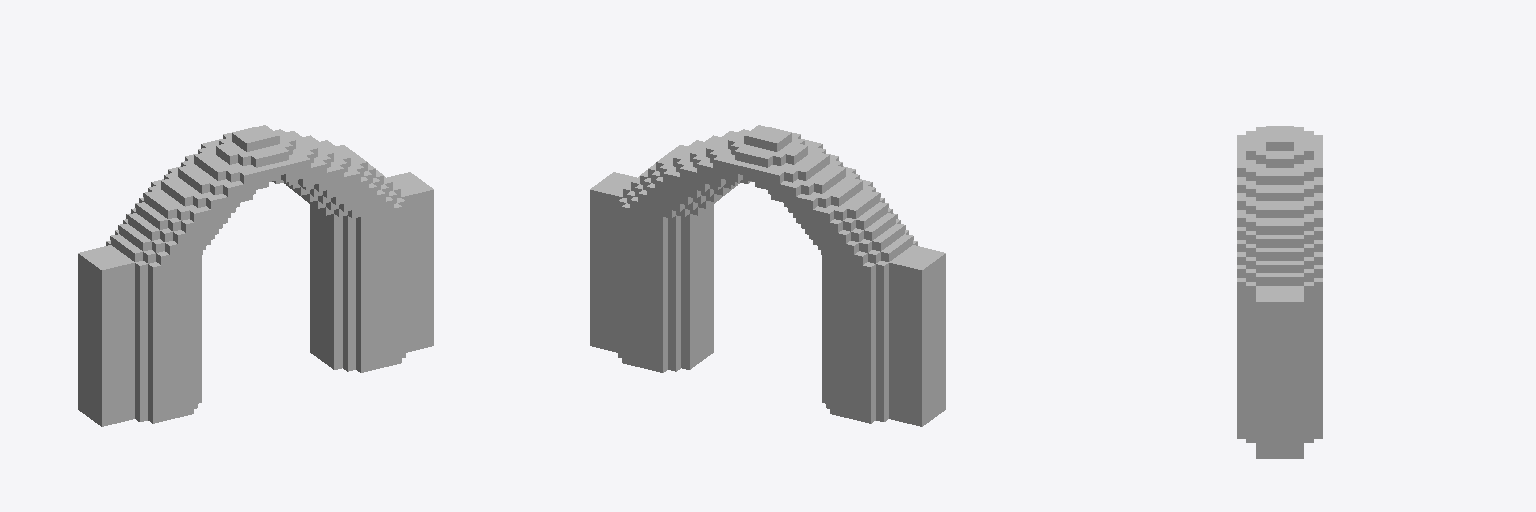
Rendered from gateframe.obj.
The picture shows the model from 3 angles: view 1: azimuth 30°, elevation 25°; view 2: azimuth 150°, elevation 25°; view 3: azimuth 270°, elevation 25°; orthographic projection.
Bounding box in the file's own units: 40 × 28 × 9.